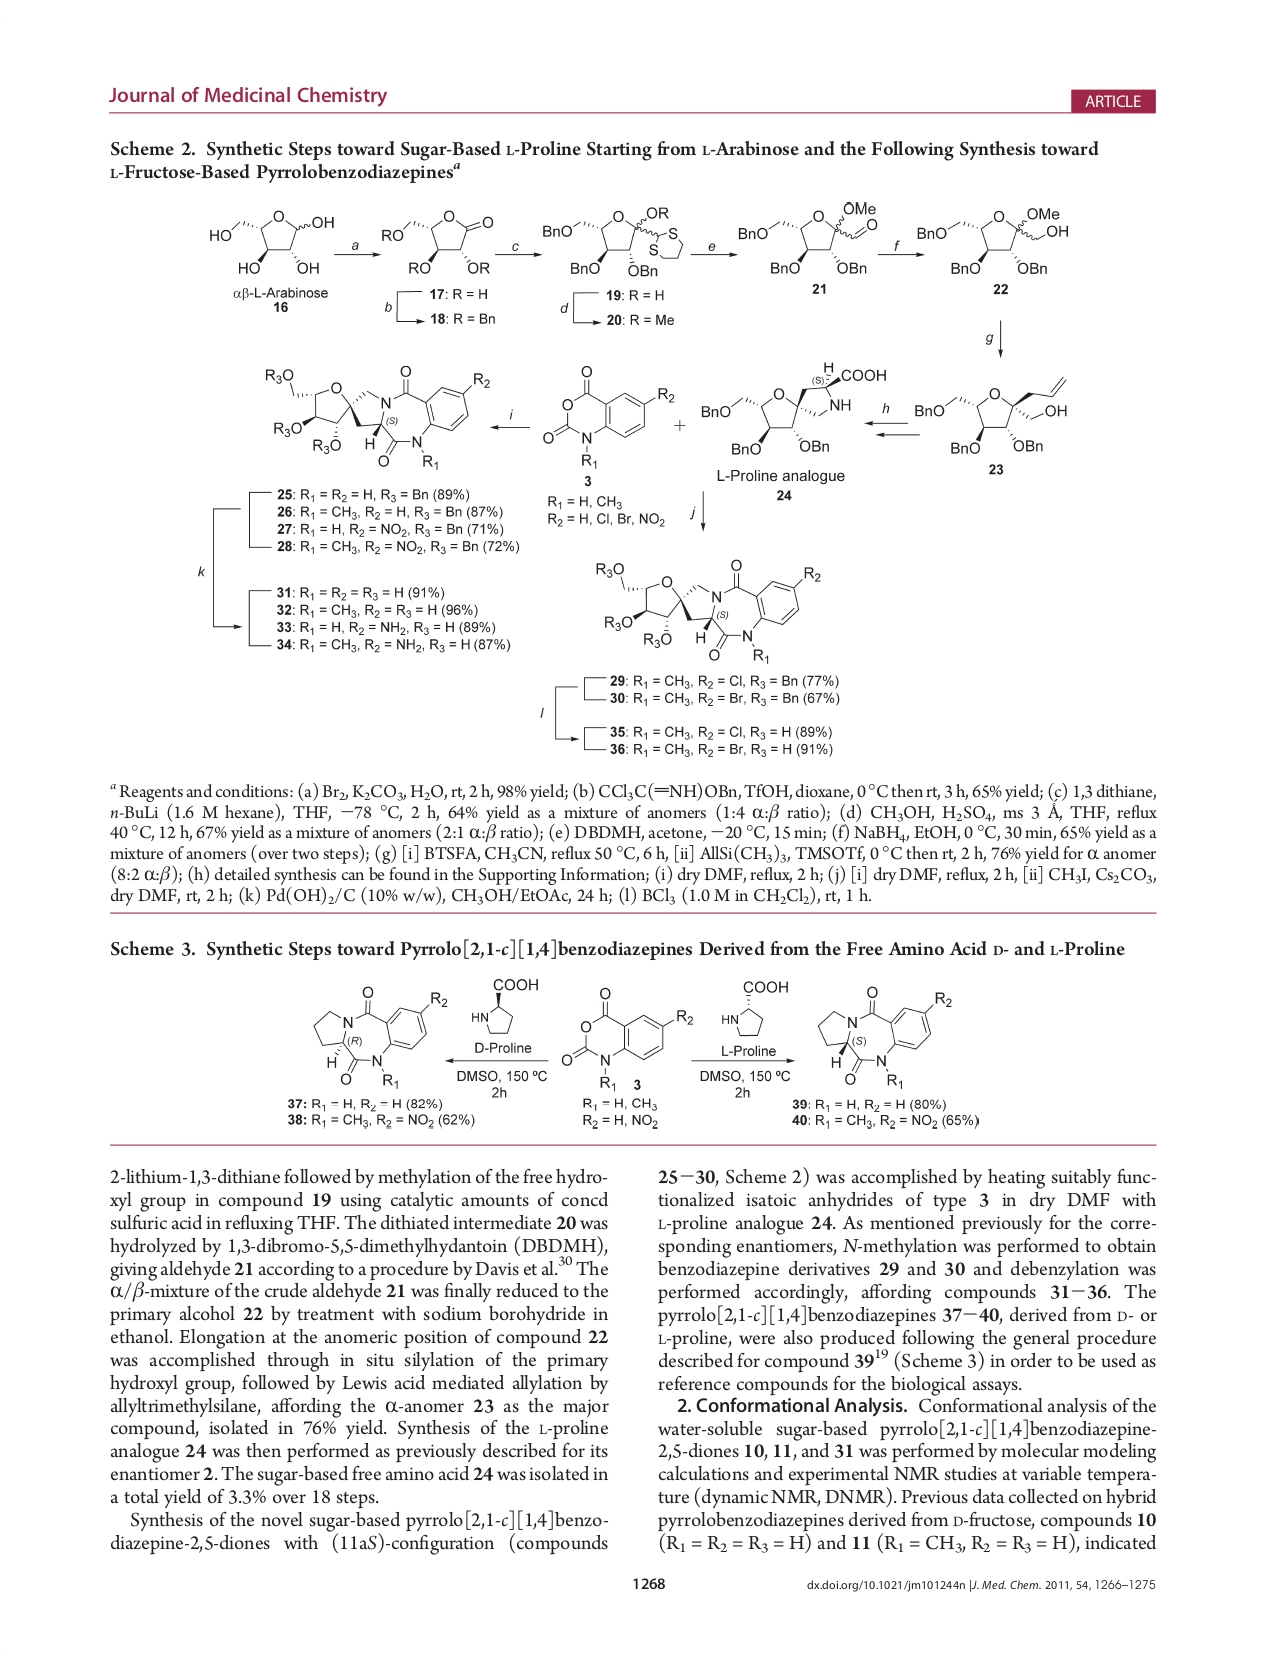exist_molecular: (261, 362, 492, 472), (590, 556, 821, 662), (699, 360, 890, 460), (814, 983, 952, 1091), (539, 362, 676, 469), (560, 985, 694, 1092), (311, 984, 448, 1088), (914, 376, 1071, 456), (915, 203, 1071, 281), (737, 198, 880, 278), (540, 202, 684, 281), (207, 207, 335, 281), (380, 207, 496, 278), (718, 975, 791, 1039), (471, 975, 540, 1039)
